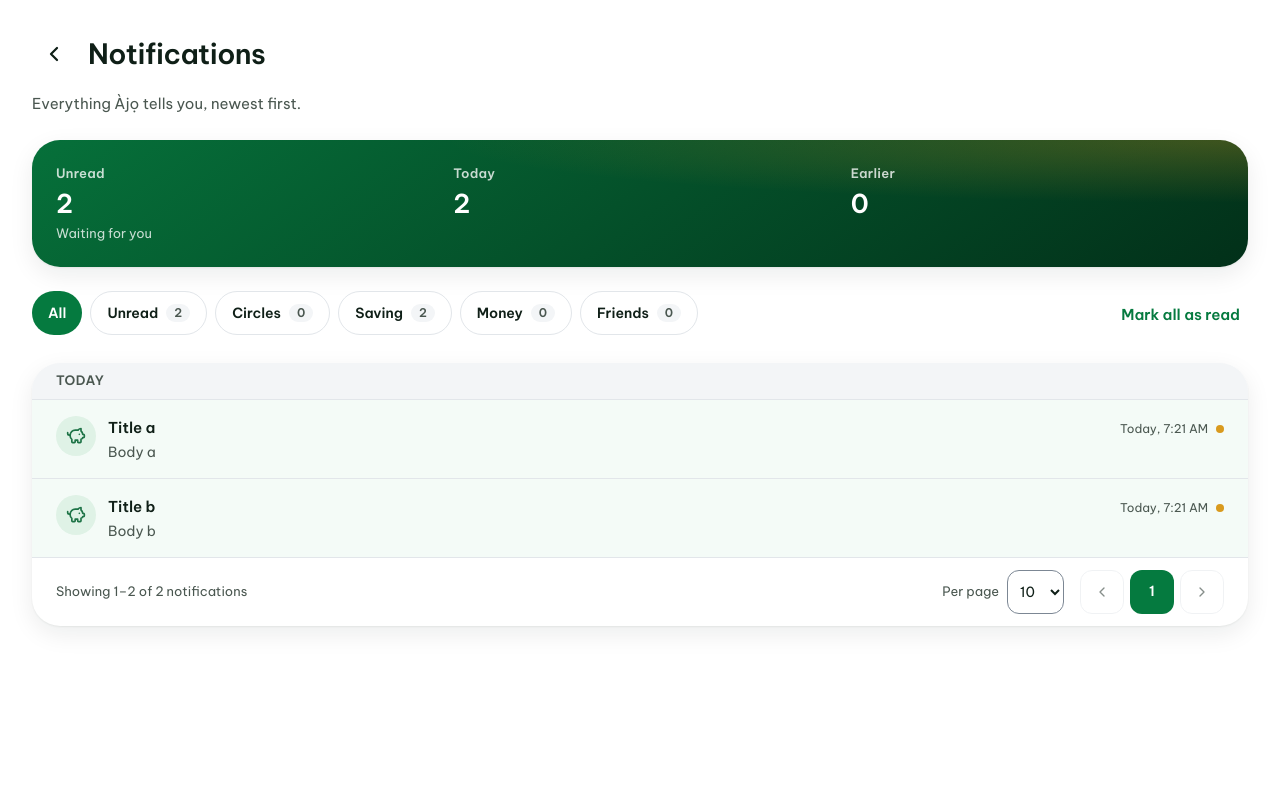
Test: the messages screen › marks everything read at once
This screenshot has width=1280, height=800.
Step 1. Click the button "Mark all as read" → (1181, 315), box [1113,296,1248,334]
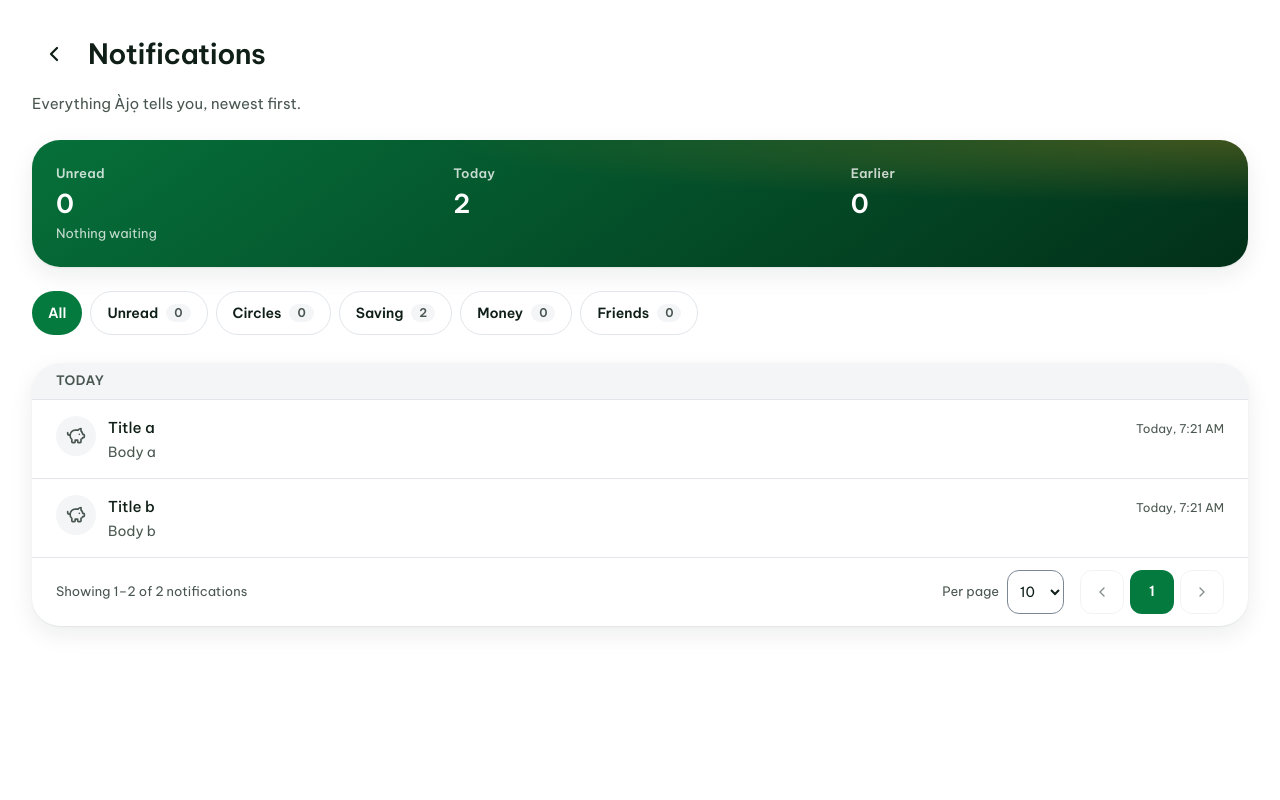
Expected: the text "Nothing waiting" is shown, [56,224,157,240]
